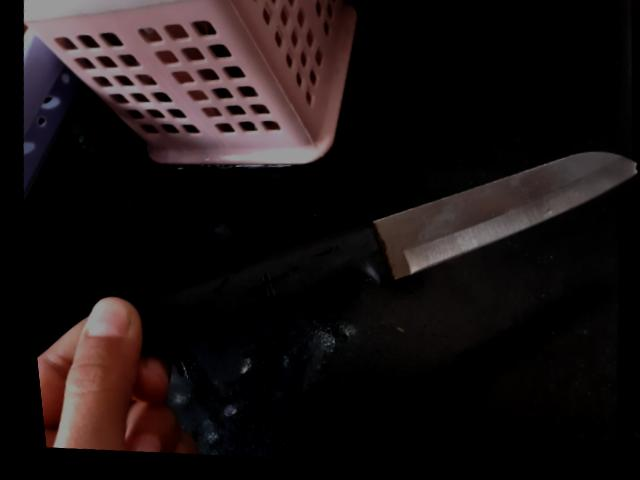Knife: (135, 152, 636, 350)
